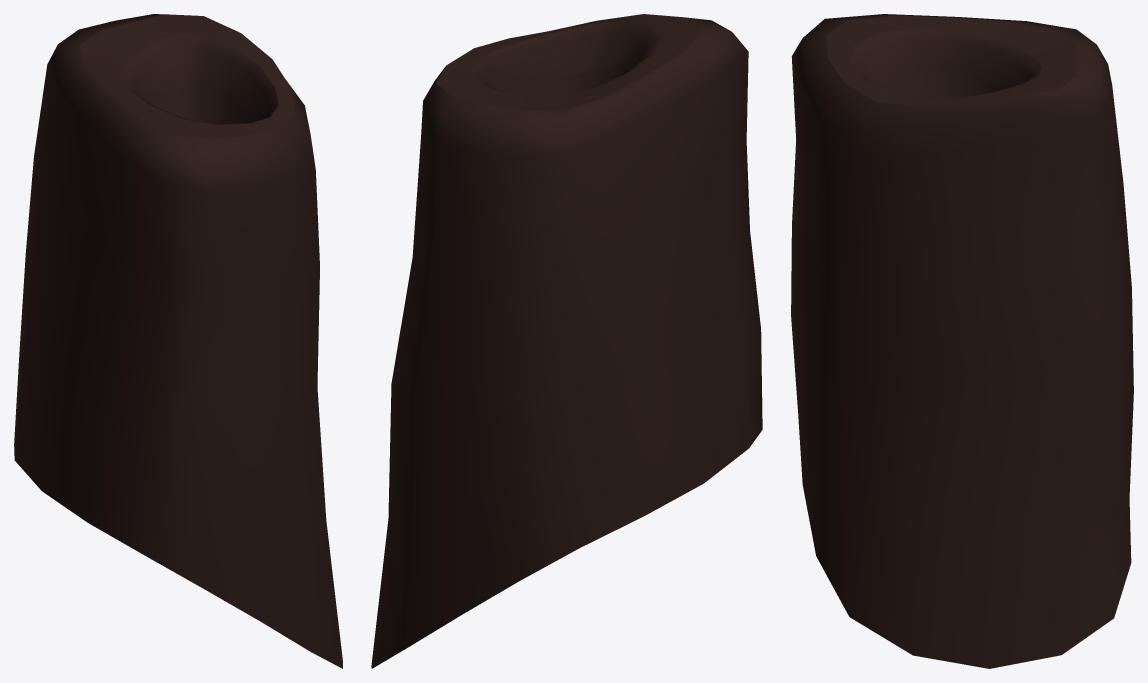
The model's file is Chimney_rock.fbx.
The picture shows the model from 3 angles, left to right: view 1: azimuth 30°, elevation 25°; view 2: azimuth 150°, elevation 25°; view 3: azimuth 270°, elevation 25°; orthographic projection. The views are drawn at different scales.
Parts seen in each view (by area): view 1: Chimney_rock; view 2: Chimney_rock; view 3: Chimney_rock.
Part boxes in pixels (x1=…): Chimney_rock: x1=14, y1=14, x2=342, y2=668; Chimney_rock: x1=371, y1=14, x2=762, y2=668; Chimney_rock: x1=791, y1=14, x2=1133, y2=668.
Size of the model in its own units: 154 by 312 by 175.
